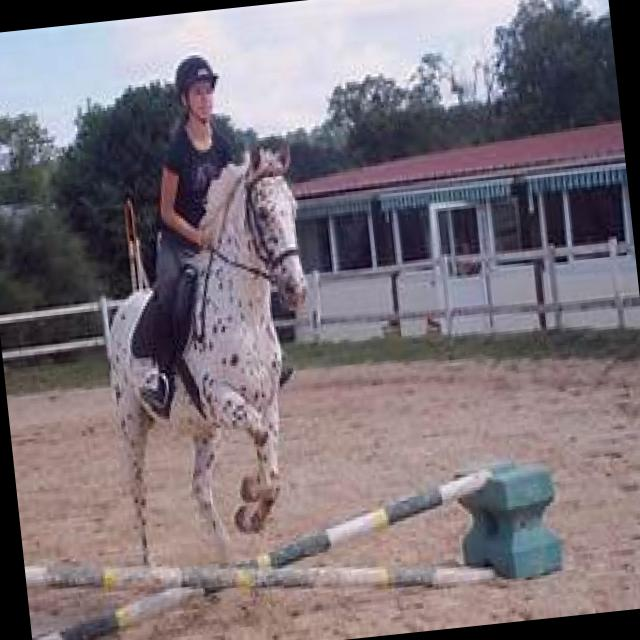horse: (82, 137, 336, 573)
